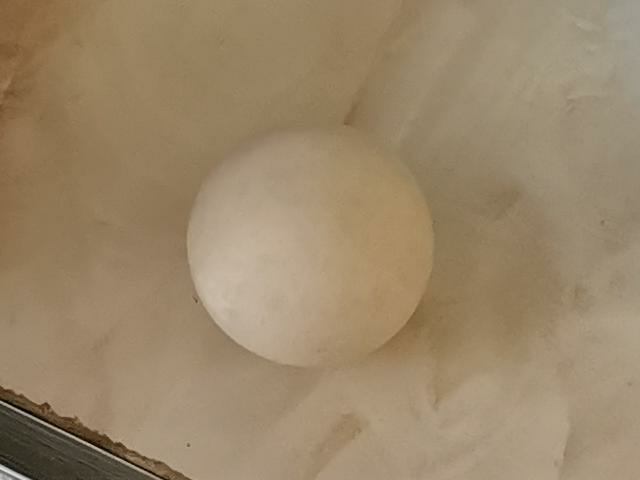ball: (187, 122, 436, 367)
